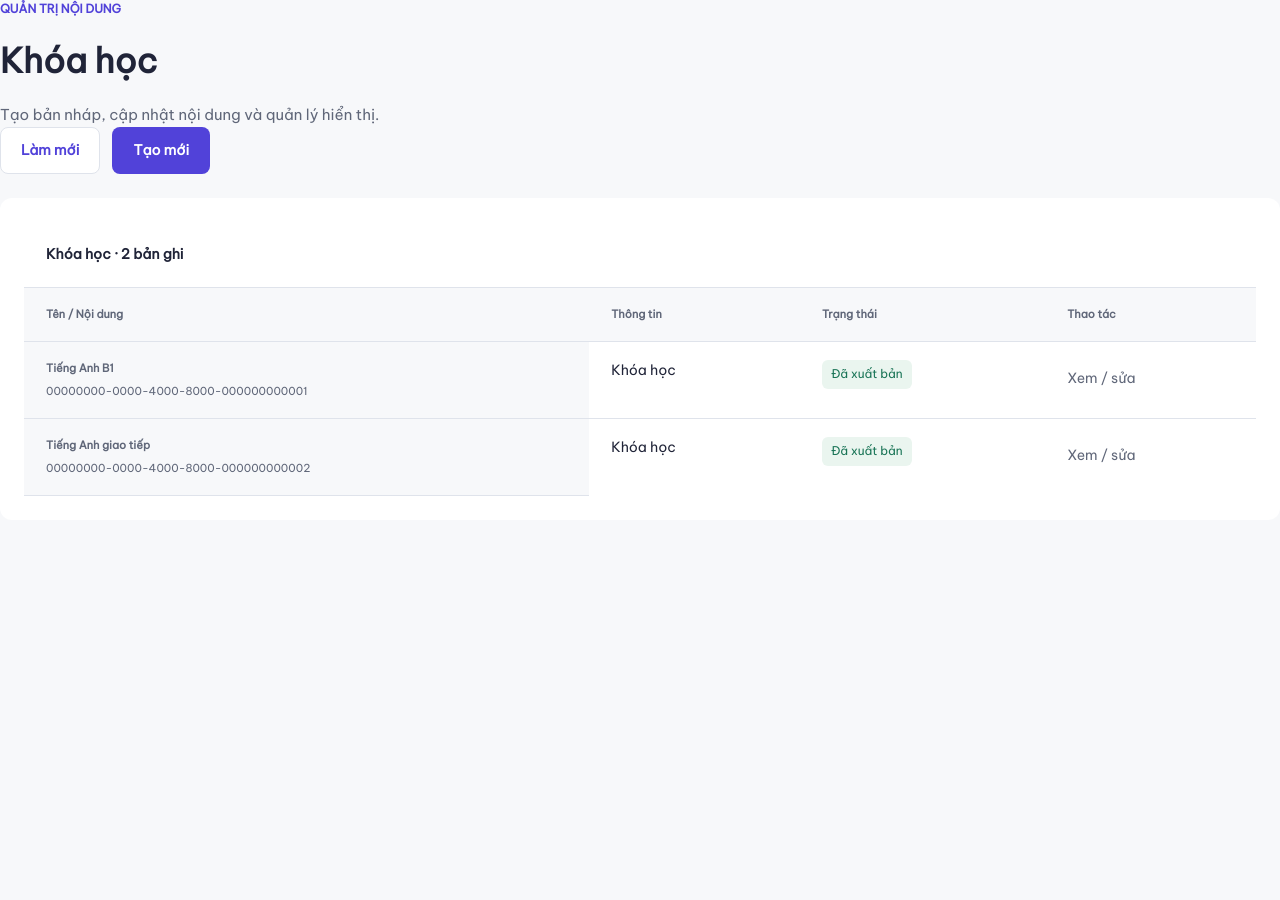
Test: keeps the selected editor stable while a write is pending
Later steps or results of the test are not shown.
Click the button "Xem / sửa" in the row of "Tiếng Anh B1": (1101,379) [1067,360,1136,398]
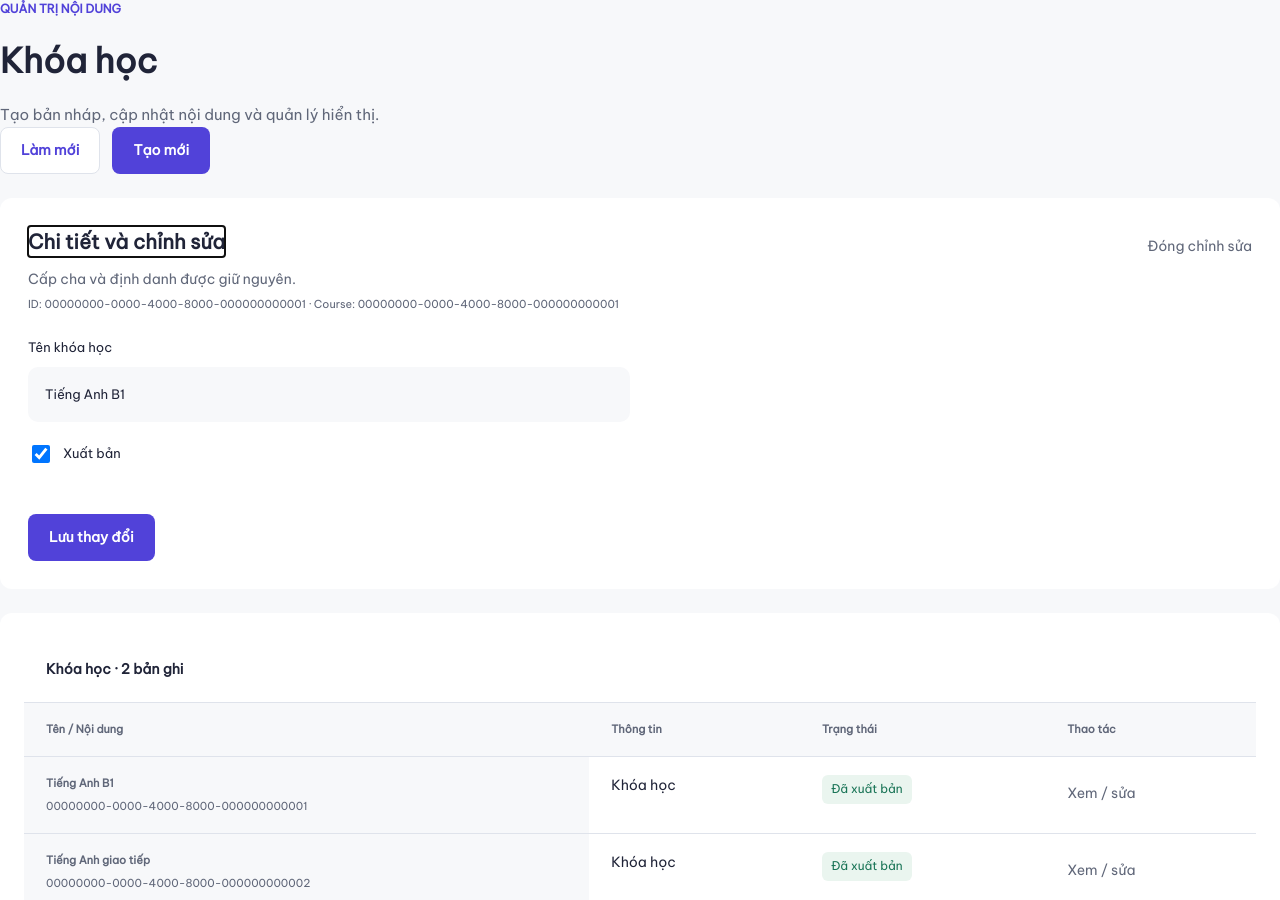
Expected: the field labelled "Tên khóa học" is shown, [28,367,630,422]
Click the button "Lưu thay đổi": (91,537) [28,514,155,560]
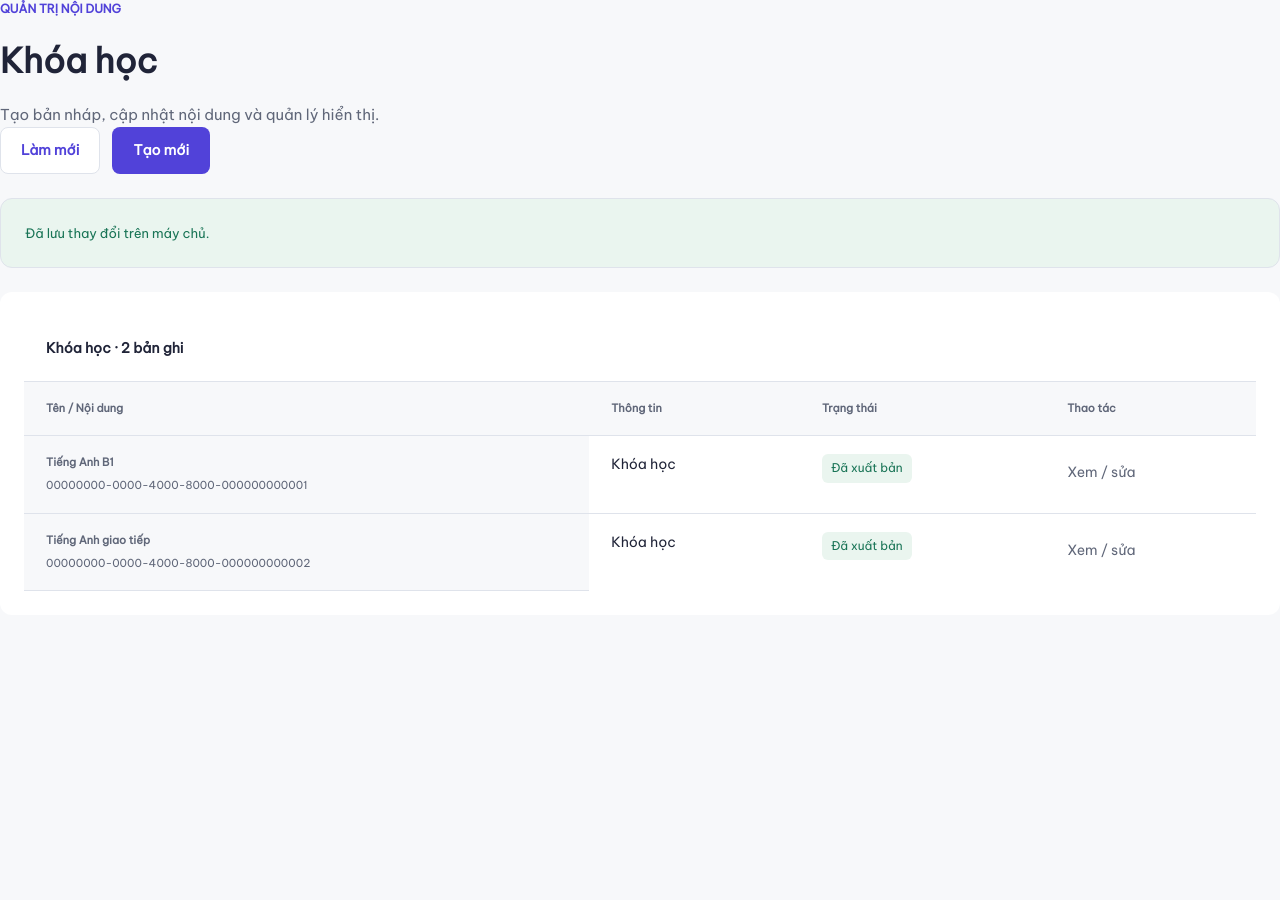
Expected: the button "Tạo mới" is enabled, [112,126,210,174]
Expected: the text "Đã lưu thay đổi trên máy chủ." is shown, [0,198,1279,268]
